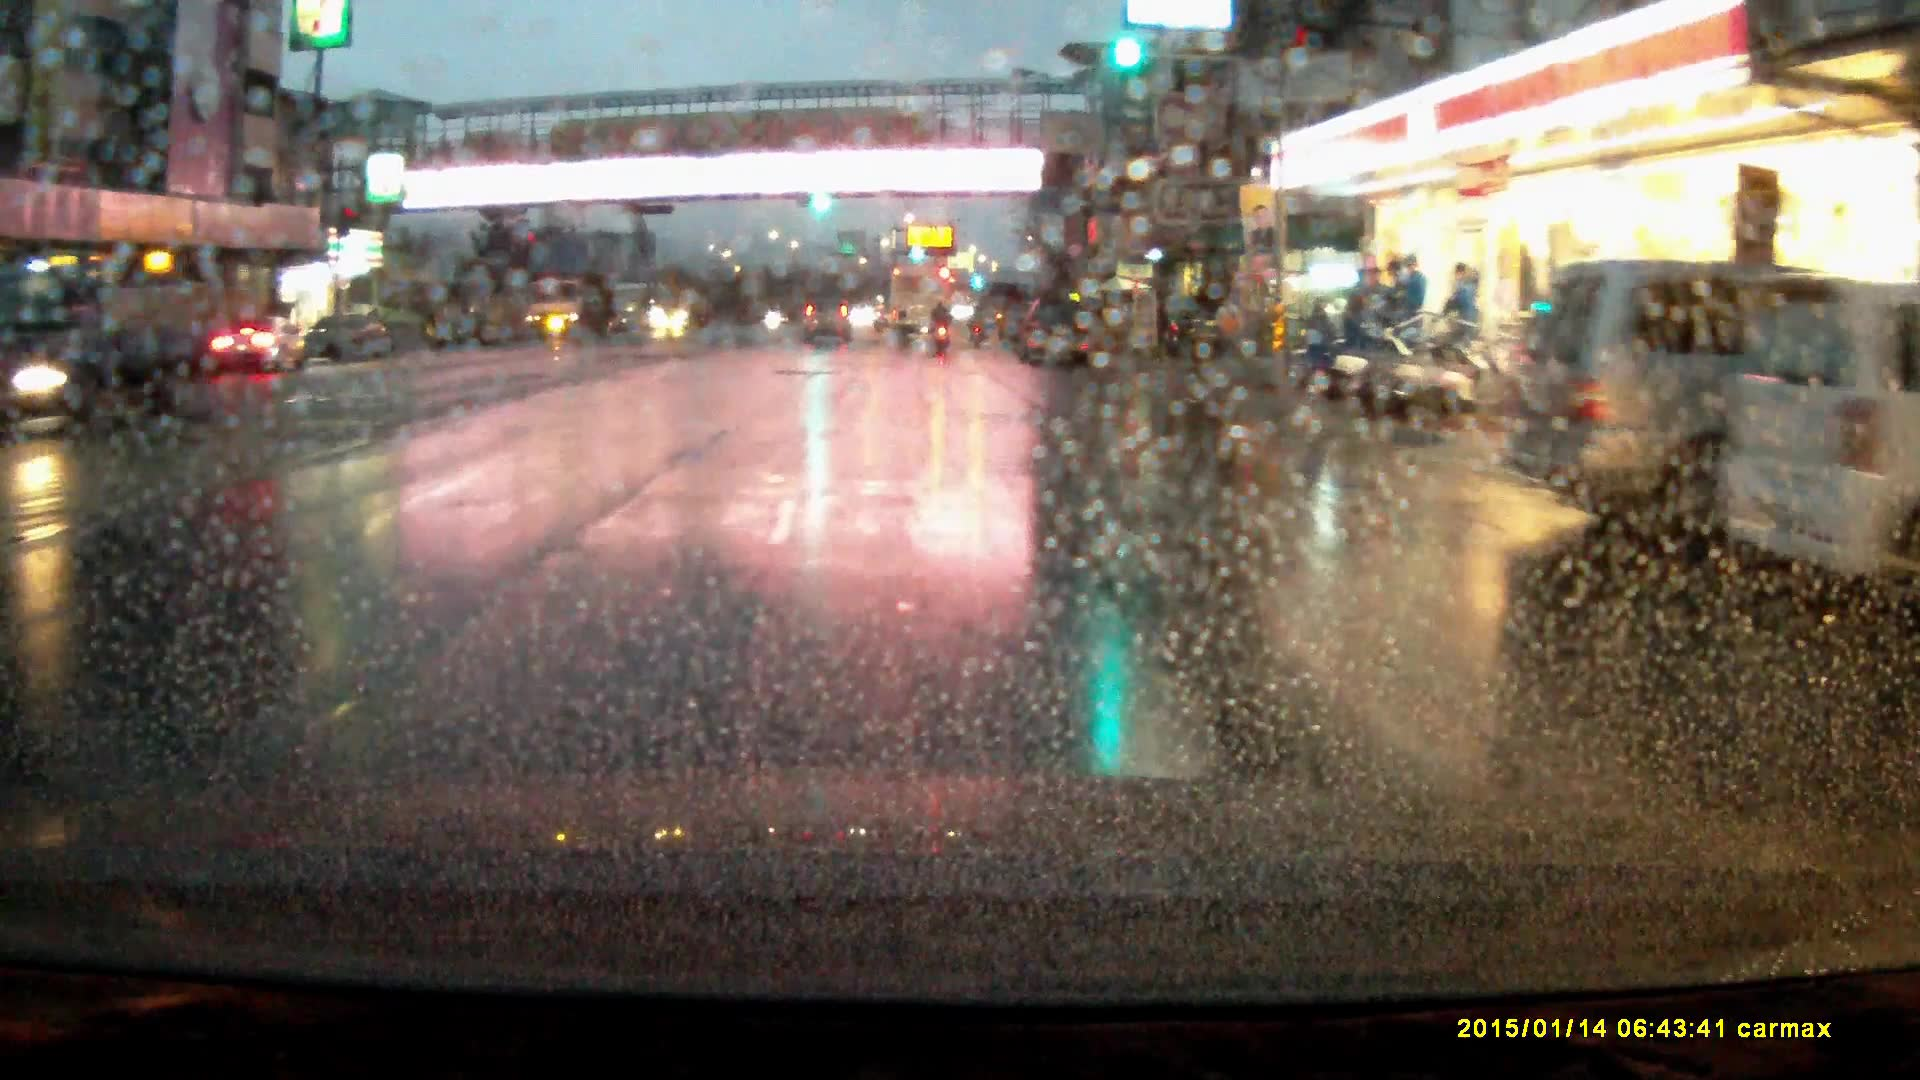rider: (930, 297, 956, 351)
vehicle: (1509, 258, 1874, 551), (16, 268, 222, 427), (524, 278, 612, 342), (1021, 292, 1091, 368), (298, 311, 396, 363), (891, 262, 953, 343), (1161, 298, 1244, 358), (801, 296, 855, 345), (658, 281, 715, 329)
